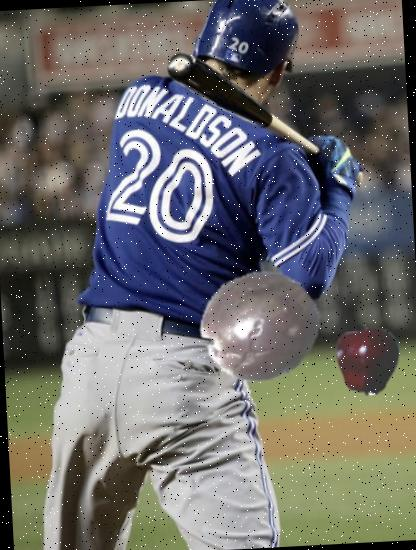Apple: (332, 321, 406, 396)
Passion: (197, 264, 324, 391)
